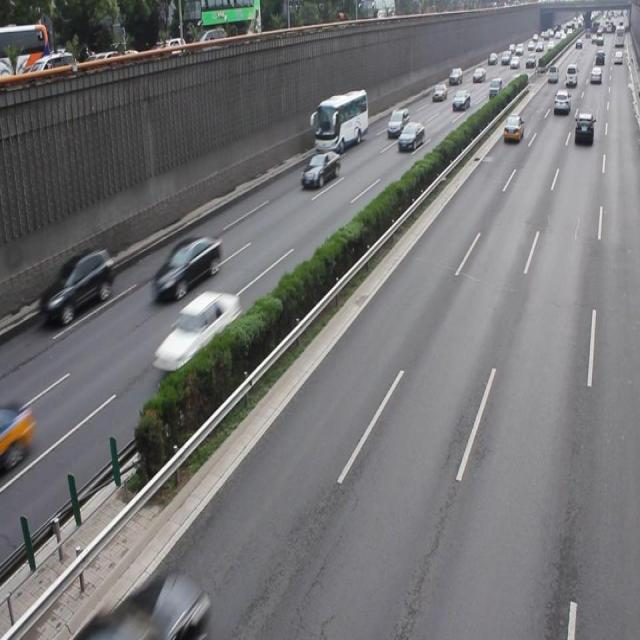car: (153, 292, 239, 372), (40, 247, 113, 324), (151, 233, 222, 299), (1, 399, 33, 476), (300, 150, 340, 189)
